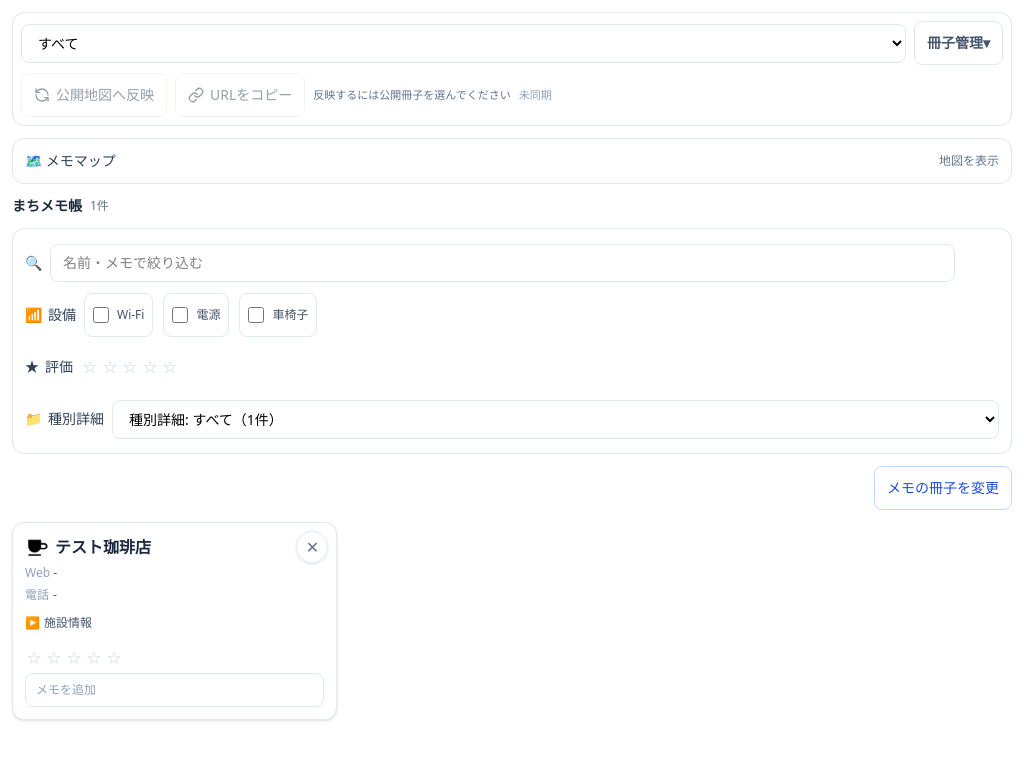
Test case: 公開マップのURLをコピー › 選択した公開スクラップブックごとに違うURLをコピーする
Later steps or results of the test are not shown.
Select "デフォルト" in the dropdown named "スクラップブック": (464, 43) top-left (21, 24), bottom-right (906, 62)
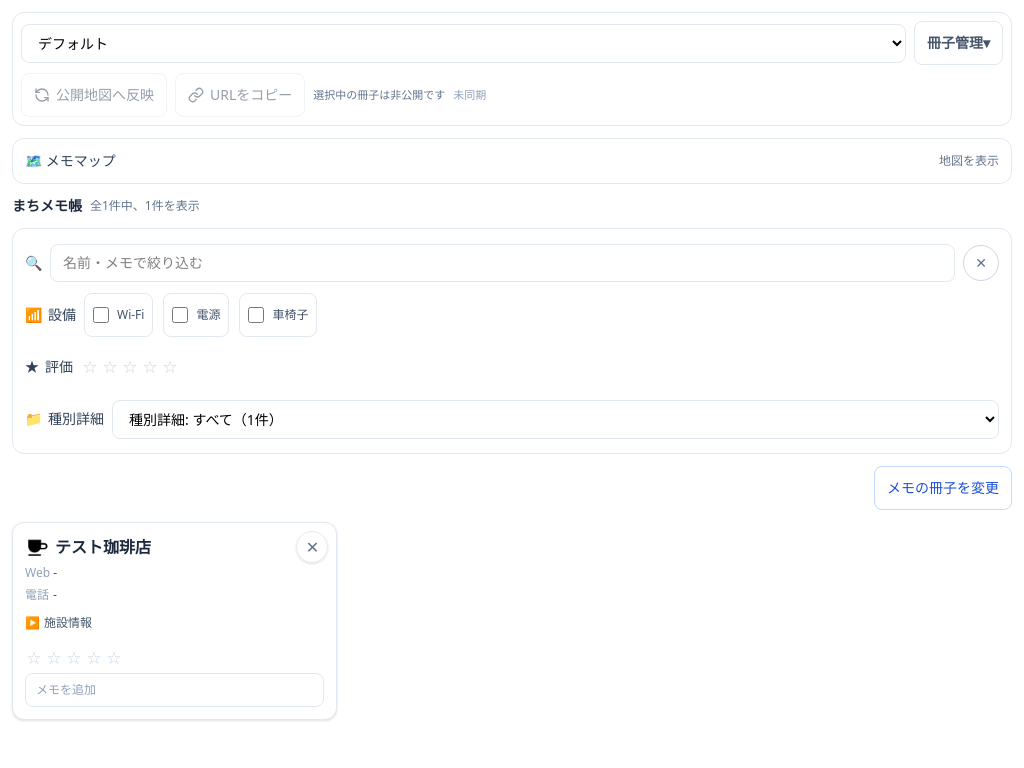
Select "公園 & 散歩（公開）" in the dropdown named "スクラップブック": (464, 43) top-left (21, 24), bottom-right (906, 62)
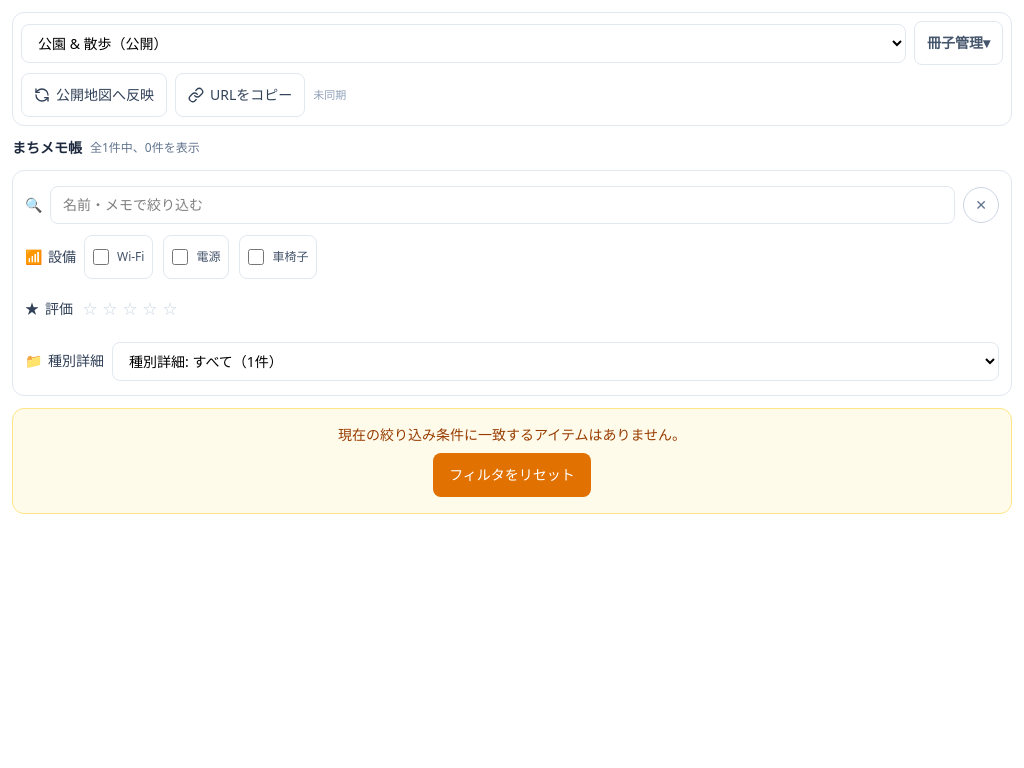
Click the button "URLをコピー": (240, 95) top-left (175, 73), bottom-right (305, 117)
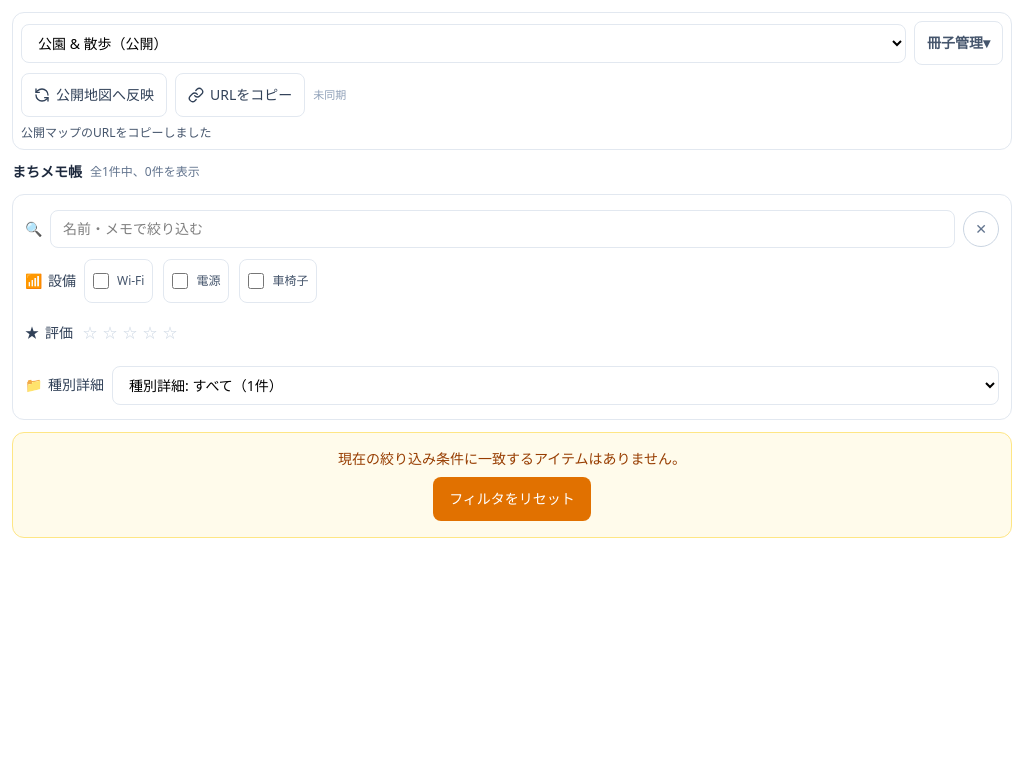
Check: the text "公開マップのURLをコピーしました" is shown, box top-left (21, 124), bottom-right (212, 141)
